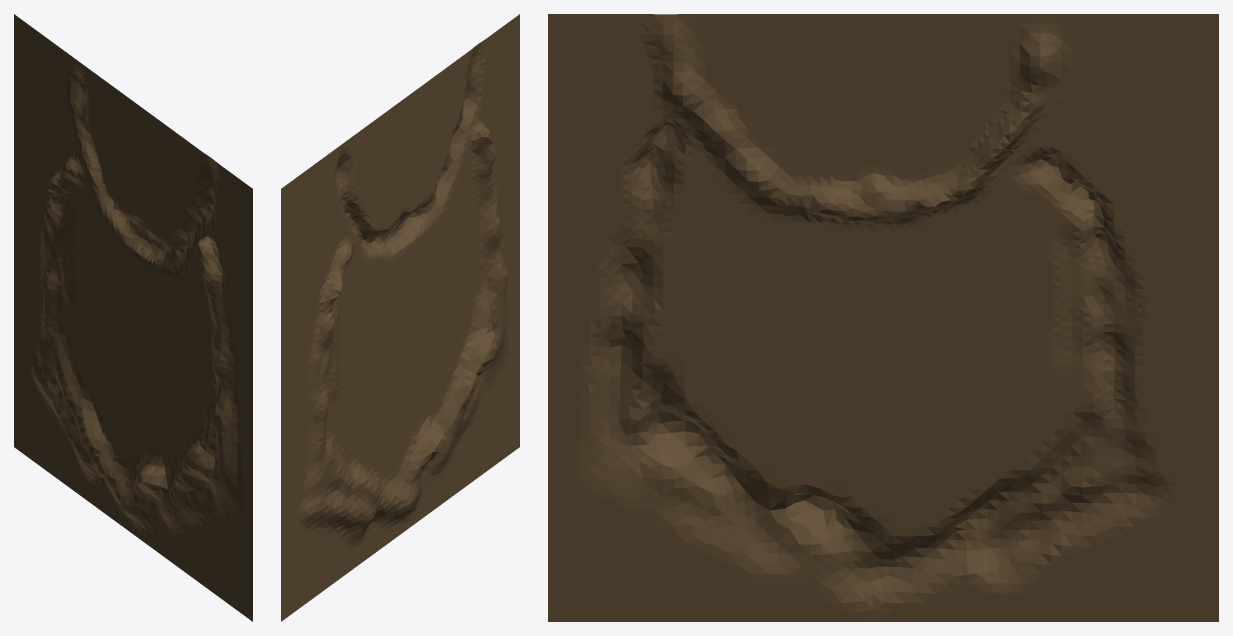
File: Ground.fbx
3 renders of one model, left to right at view 1: azimuth 30°, elevation 25°; view 2: azimuth 150°, elevation 25°; view 3: azimuth 270°, elevation 25°, orthographic. The views are drawn at different scales.
Parts seen in each view (by area): view 1: Plane.009; view 2: Plane.009; view 3: Plane.009.
Part boxes in pixels (x1=…): Plane.009: x1=14, y1=14, x2=252, y2=621; Plane.009: x1=281, y1=14, x2=519, y2=621; Plane.009: x1=548, y1=14, x2=1218, y2=621.
Bounding box in the file's own units: 54734 × 54736 × 4069.
